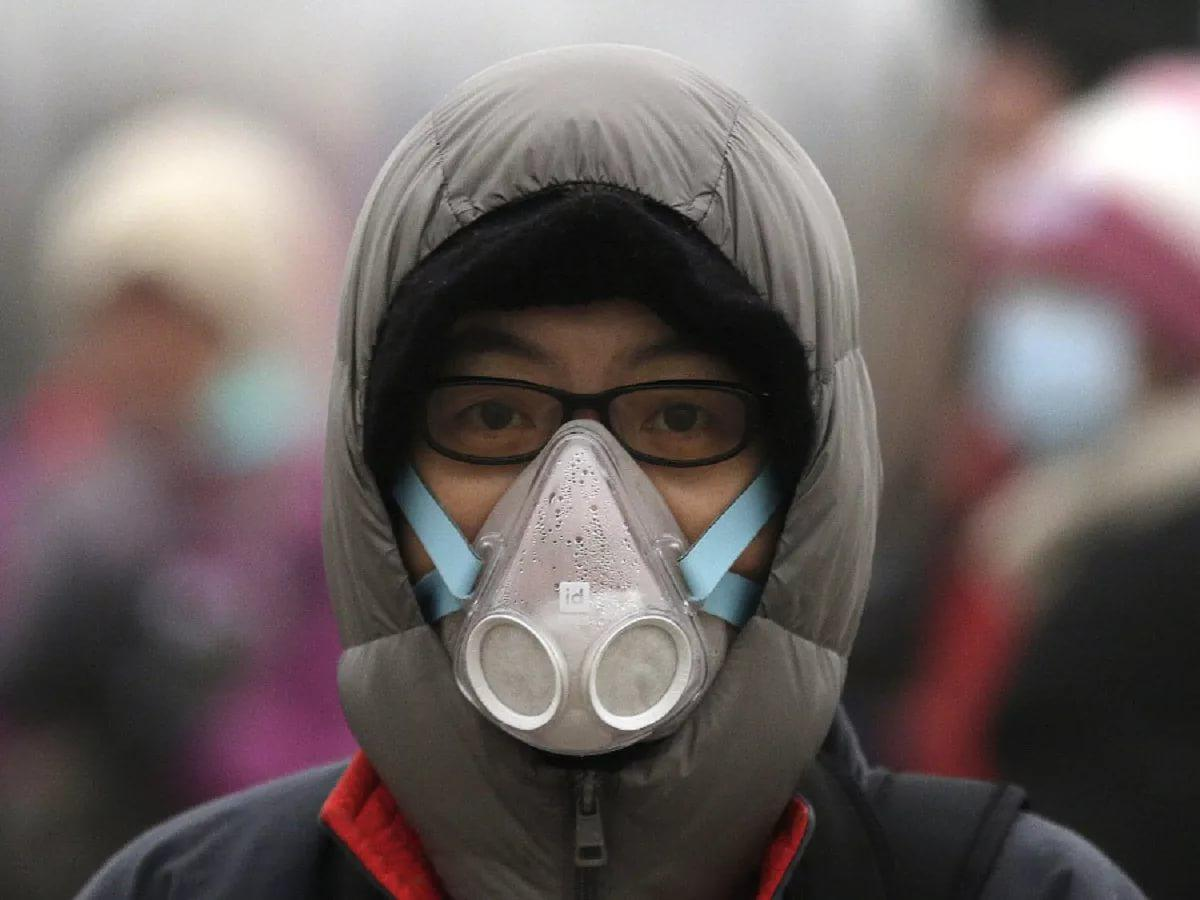mask: (384, 244, 797, 760)
